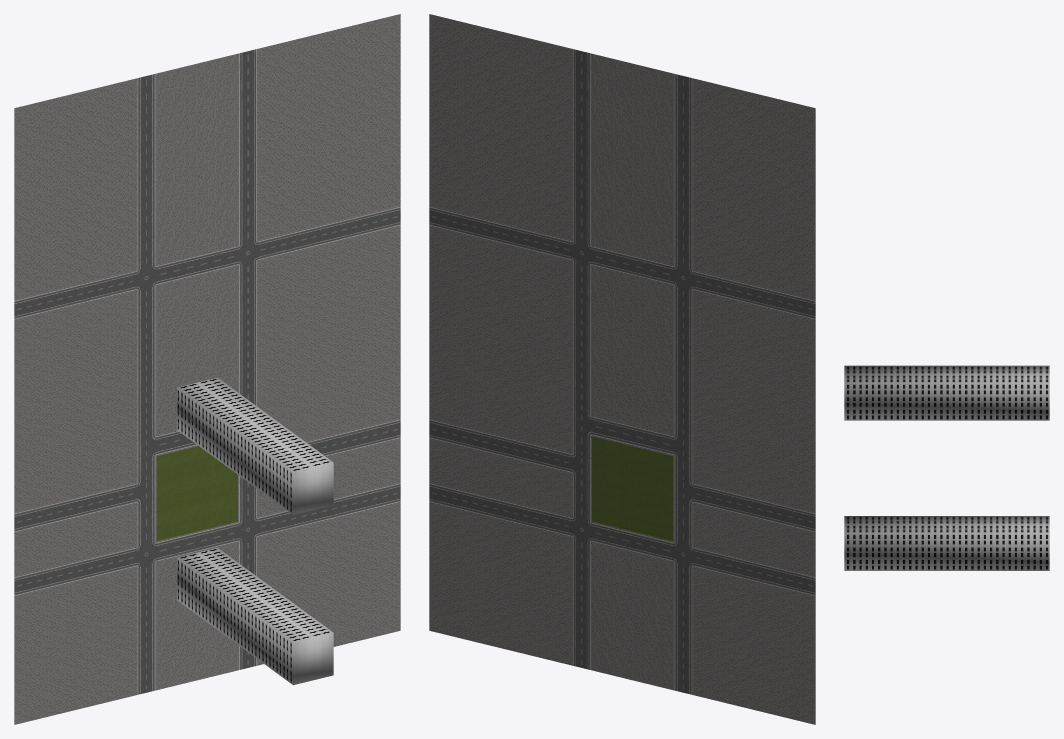
File: stage-ext-0.fbx
3 renders of one model, left to right at view 1: azimuth 30°, elevation 25°; view 2: azimuth 150°, elevation 25°; view 3: azimuth 270°, elevation 25°, orthographic. The views are drawn at different scales.
Parts seen in each view (by area): view 1: buildings; view 2: buildings; view 3: buildings.
Part boxes in pixels (x1,y1,x2,y2): buildings: (14,14,400,724); buildings: (429,14,815,724); buildings: (844,365,1049,570).
Bounding box in the file's own units: 190 × 290 × 99.
Materials: 7 (7 with a texture image).
